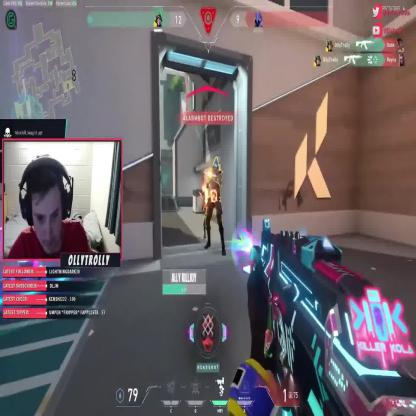enemy: (204, 156, 226, 256), (203, 199, 211, 239)
enemy_head: (212, 157, 220, 173)
